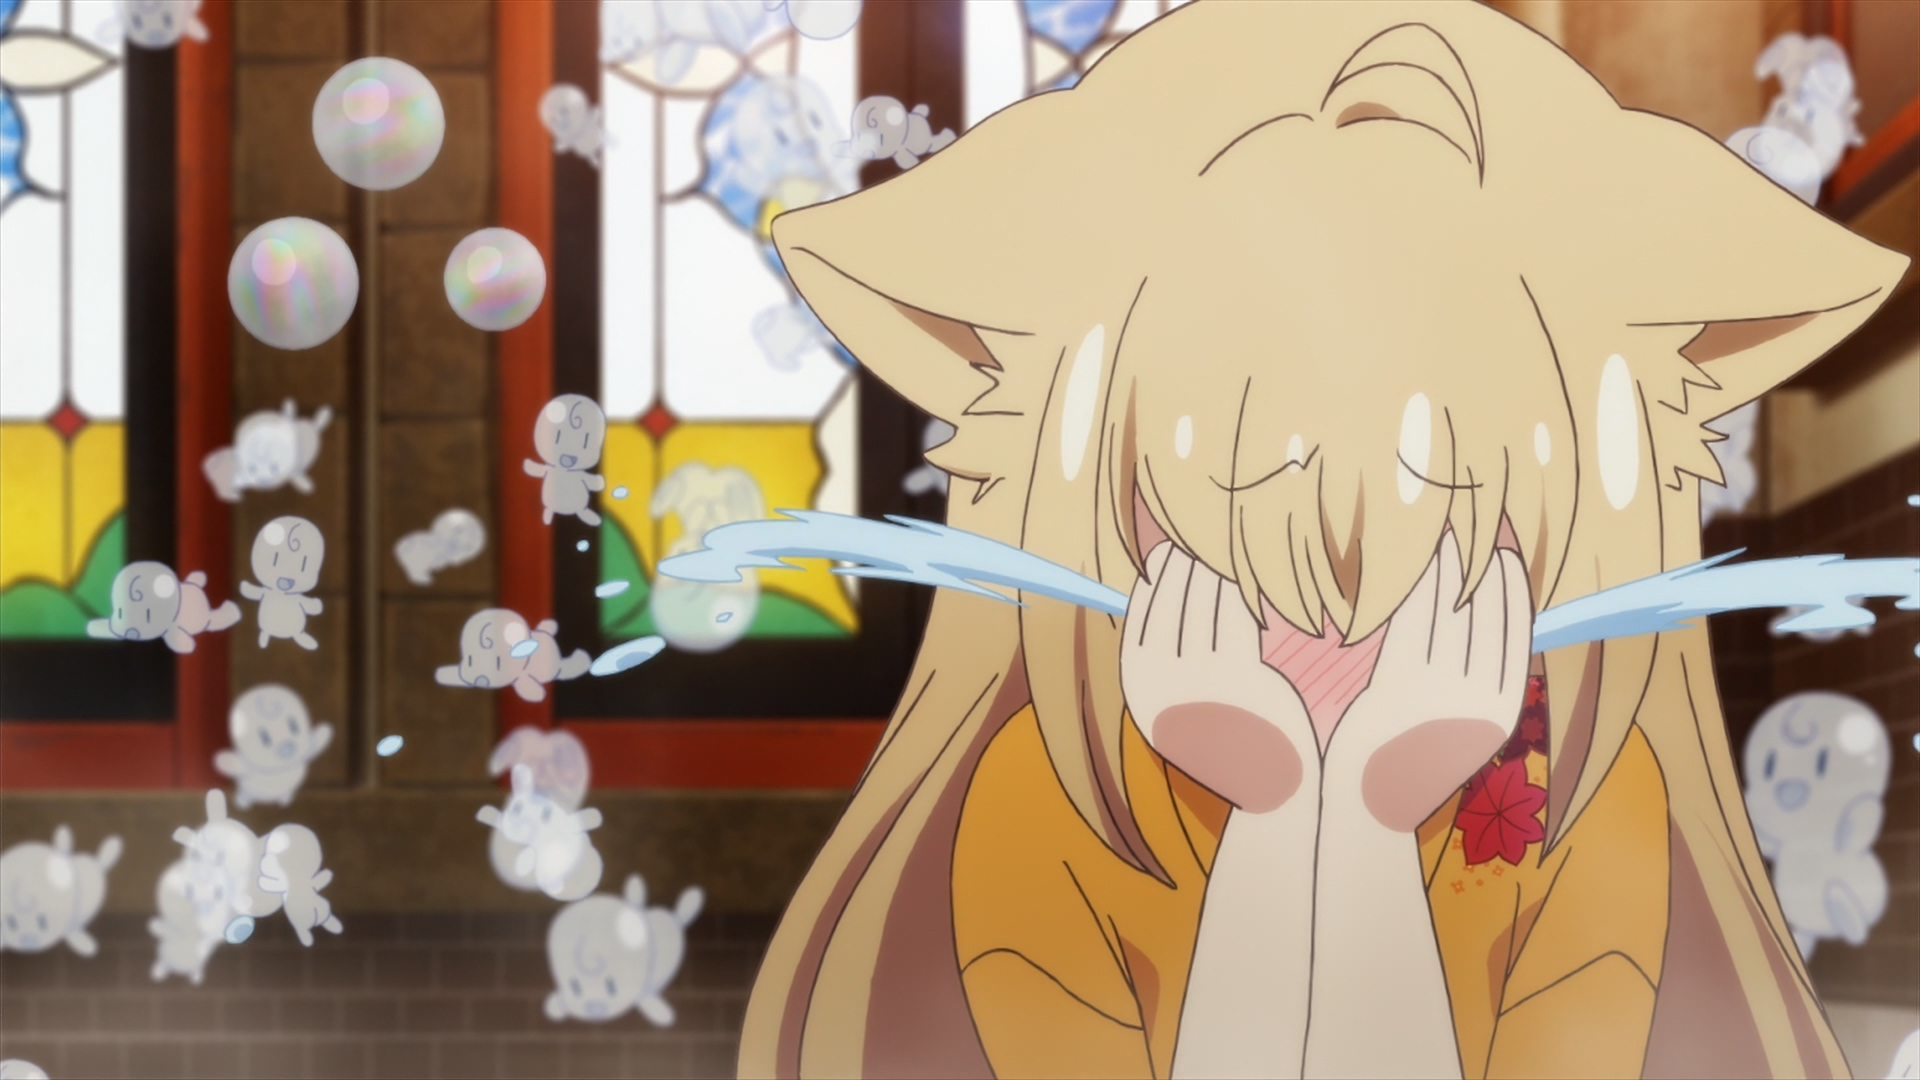柚: (735, 1, 1911, 1080)
